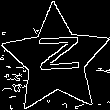N_W: (30, 38, 81, 81)
